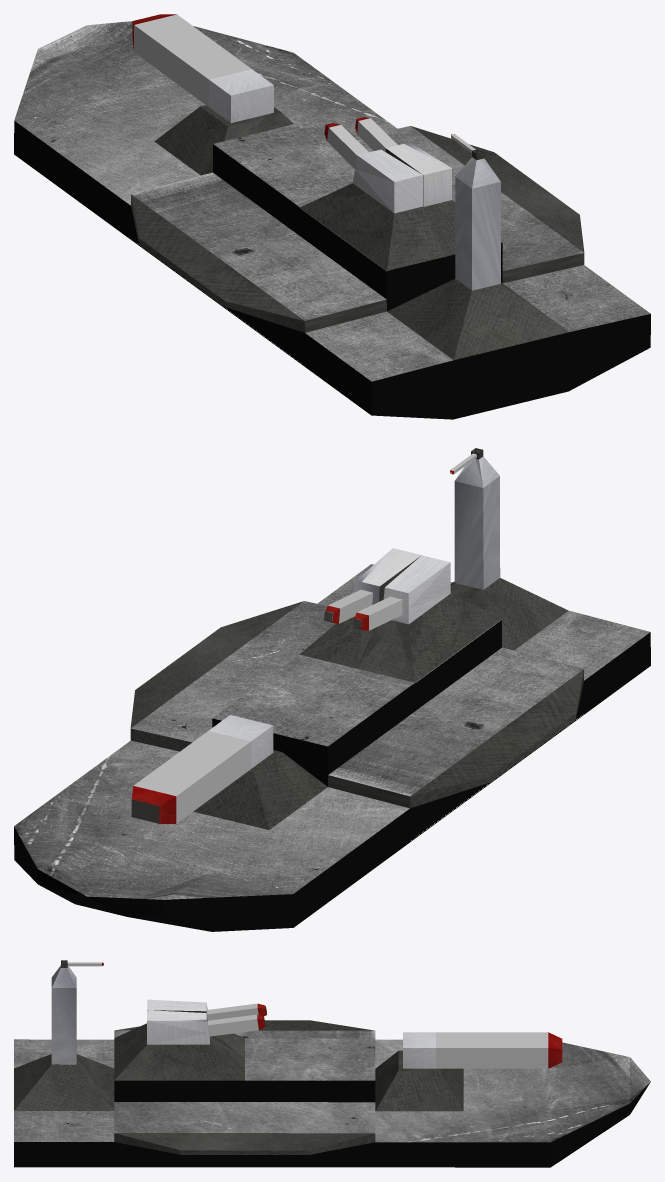
The model's file is ship.obj.
The picture shows the model from 3 angles, top to bottom: view 1: azimuth 30°, elevation 25°; view 2: azimuth 150°, elevation 25°; view 3: azimuth 270°, elevation 25°; orthographic projection. The views are drawn at different scales.
Bounding box in the file's own units: 7.76 × 4.8 × 16.06.
